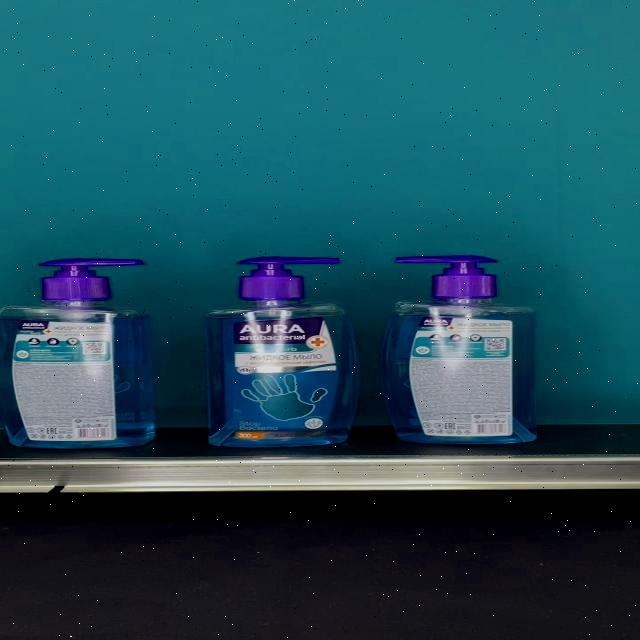Bottle: (204, 256, 360, 448), (0, 258, 156, 449), (381, 256, 536, 444)
Cap: (396, 256, 500, 299), (237, 256, 340, 299), (37, 258, 142, 300)
